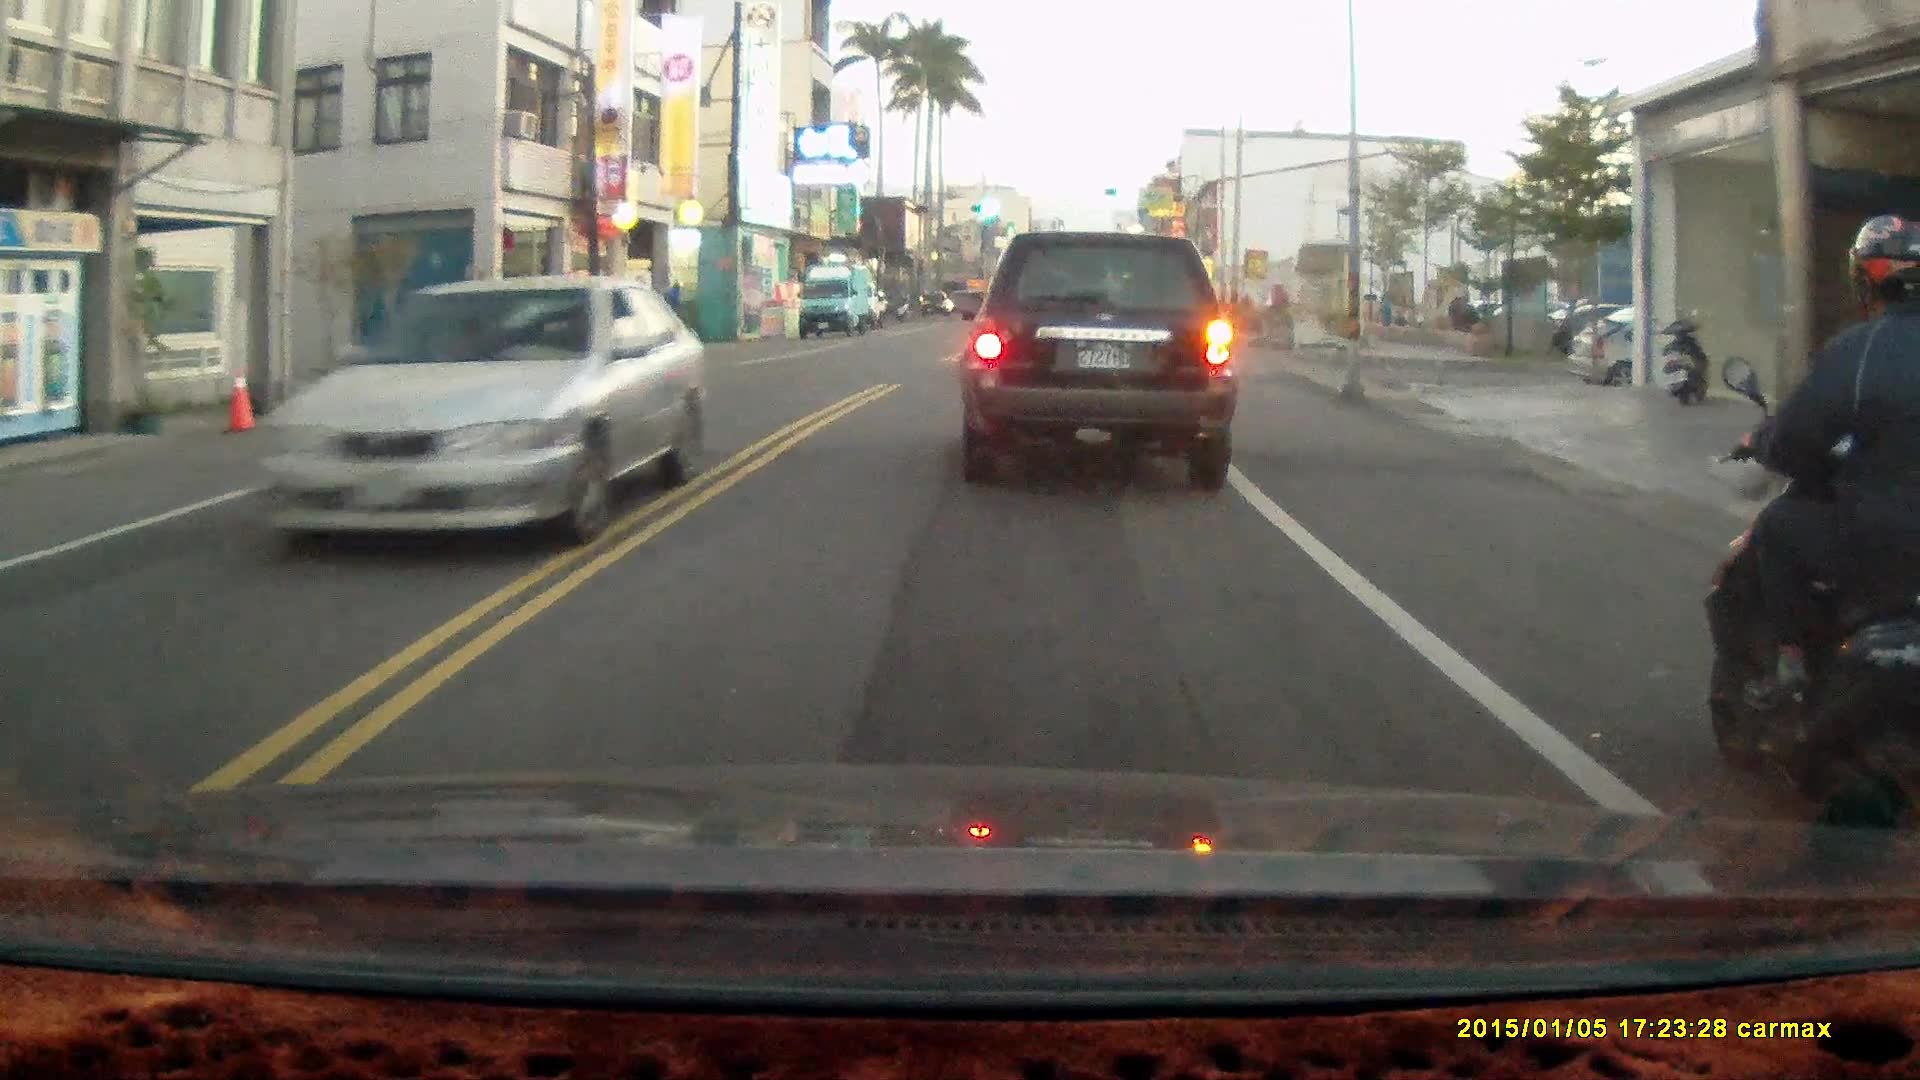pedestrian: (651, 278, 683, 345)
rider: (1696, 211, 1919, 866)
vehicle: (247, 274, 712, 555), (964, 230, 1243, 496), (1566, 319, 1775, 394), (799, 266, 875, 343)
